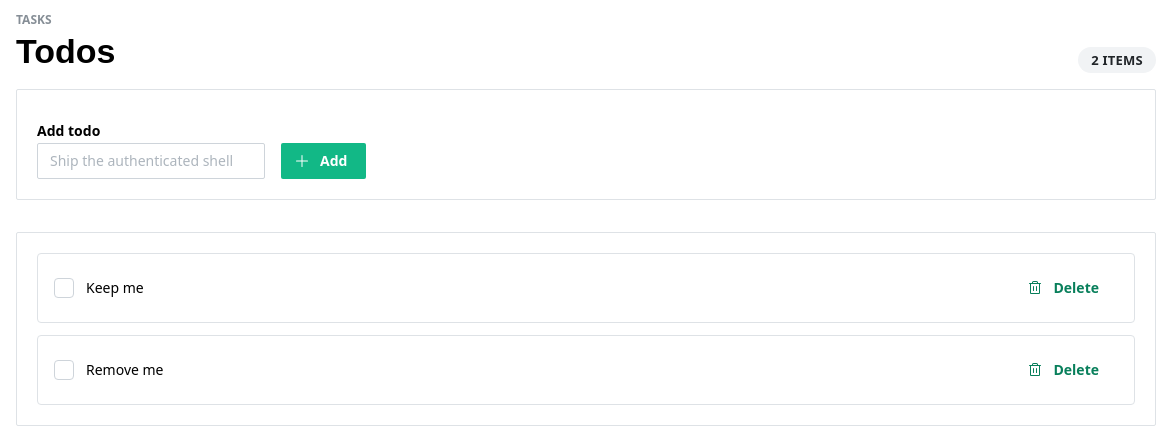
Test case: TodosPage › deletes a todo through a mutation and refreshes the list
Check: the text "Keep me" is shown, box [86, 278, 144, 297]
Check: the text "Remove me" is shown, box [86, 360, 164, 379]
Click the button "Delete" in the row of "Remove me" at (1066, 370), box [1014, 352, 1118, 388]
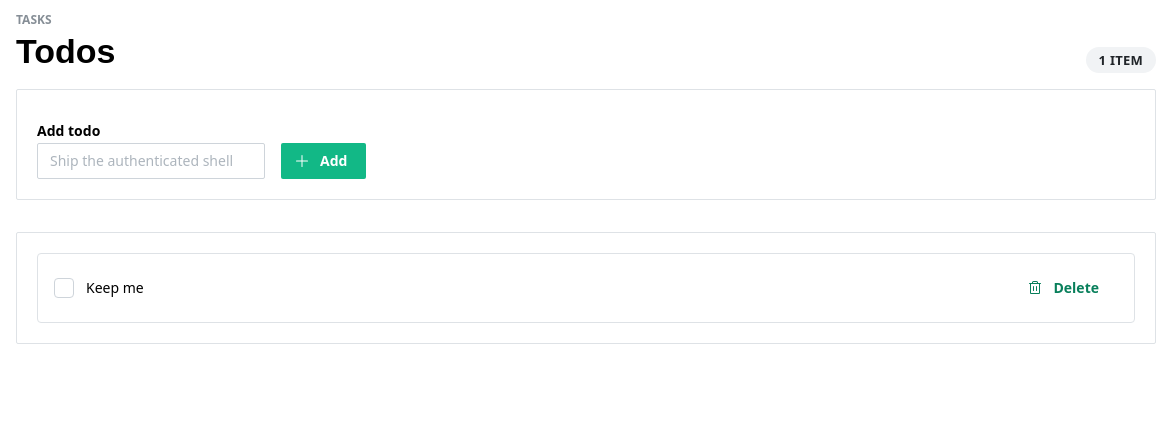
Check: the text "Keep me" is shown, box [86, 278, 144, 297]
Check: the text "Remove me" is gone
